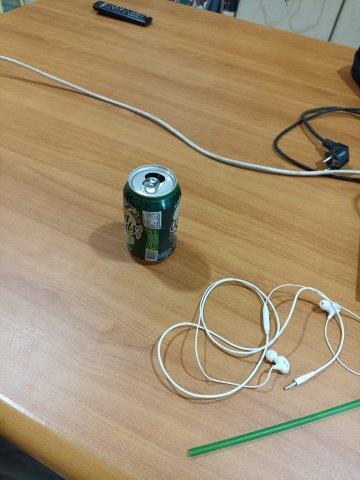kaleng: (123, 164, 182, 265)
